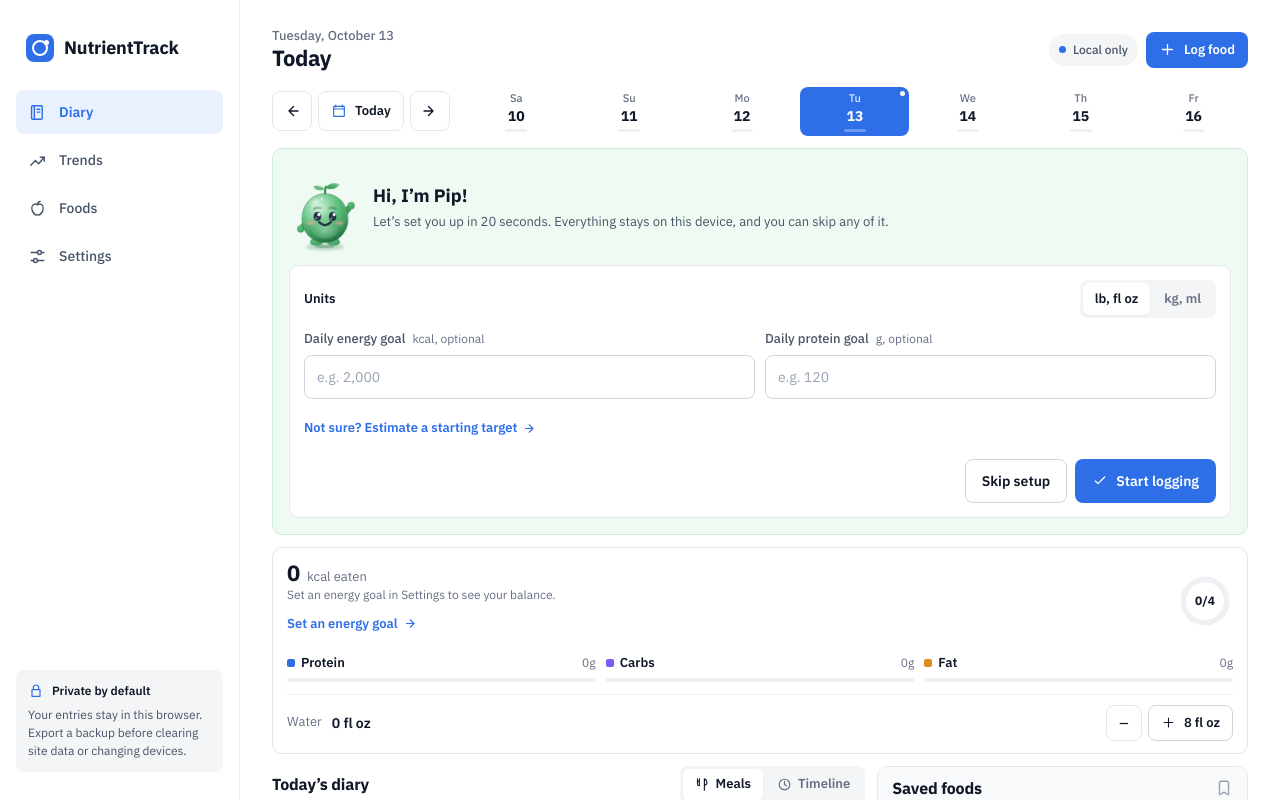
Scenario: write failures surface as error toasts › keeps the entry and closes the dialog when only the optional saveFood fails
Click the button "Log food": (1197, 50) [1146,32,1248,68]
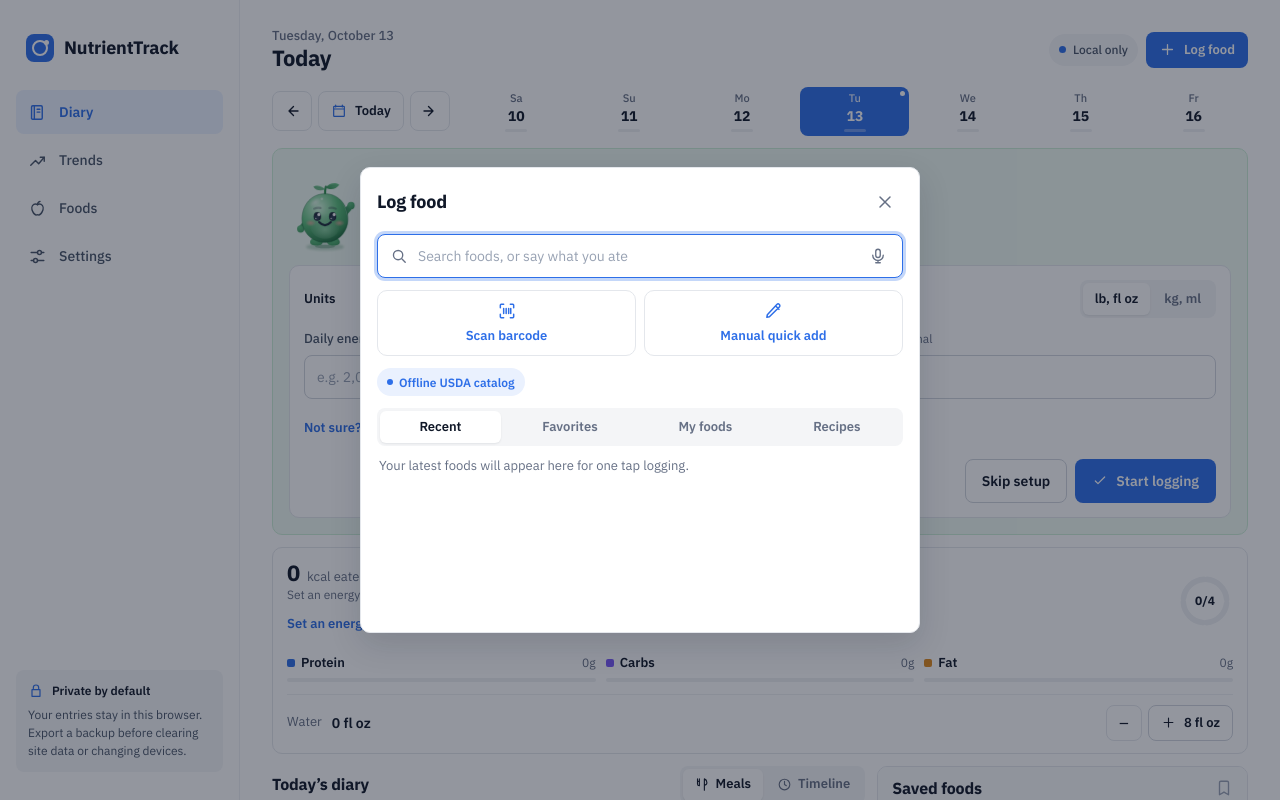
Click the button "Manual quick add": (774, 323) [644,290,903,356]
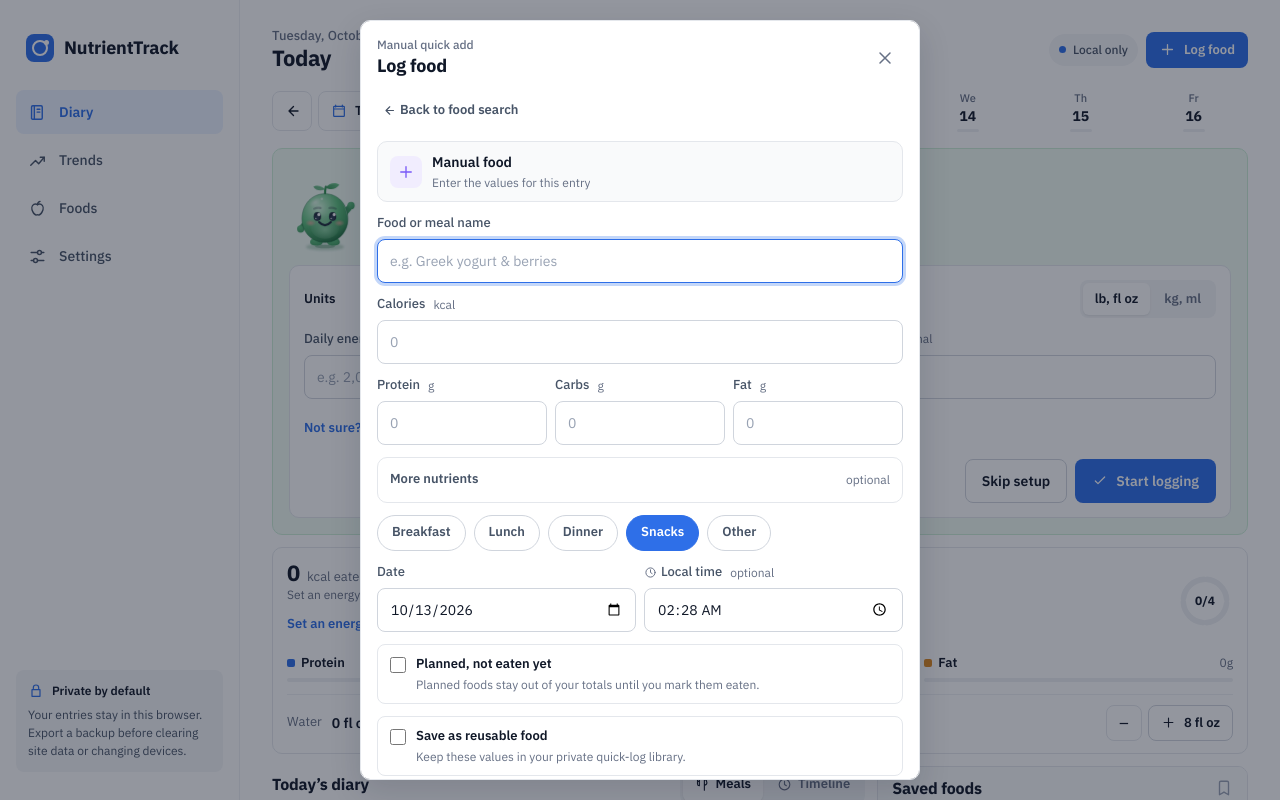
In the field labelled "Food or meal name": (640, 261) [377,239,903,283], type "Toast"
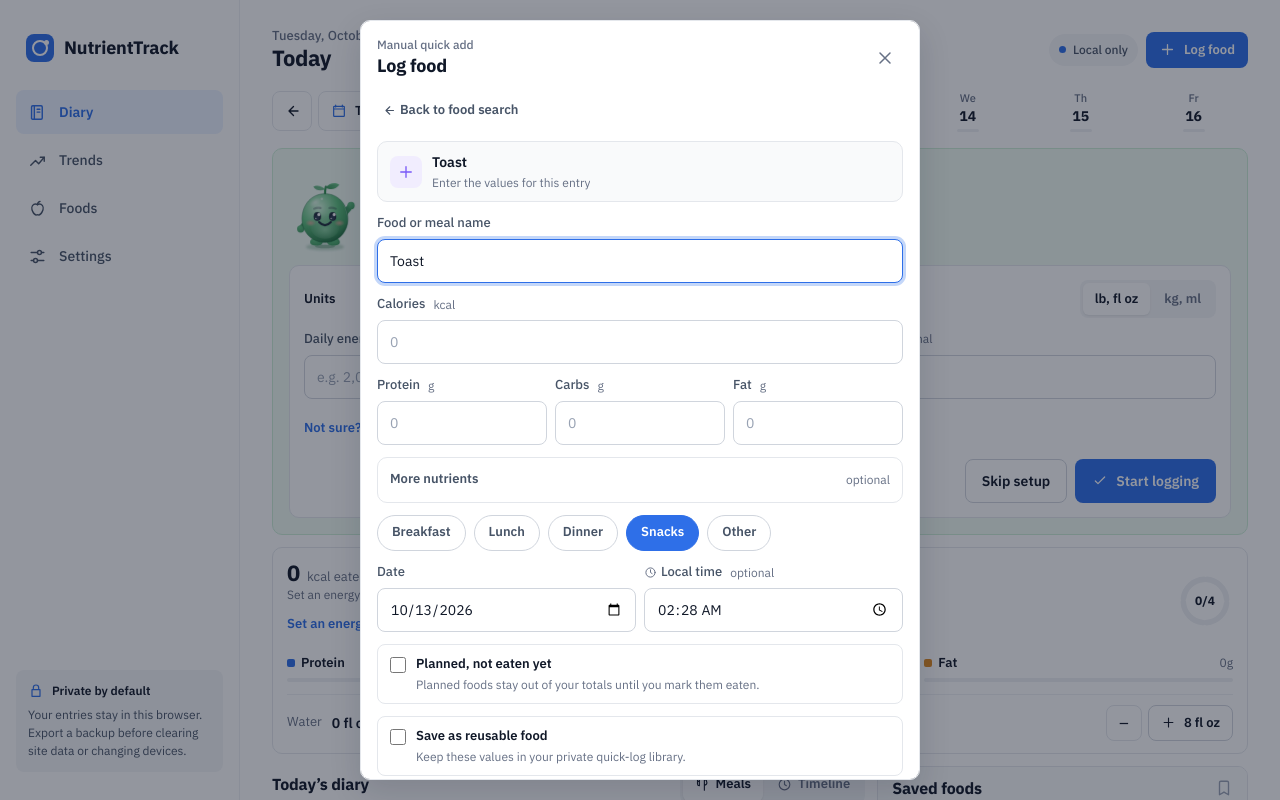
In the number field labelled "Calories kcal": (640, 342) [377,320,903,364], type "120"
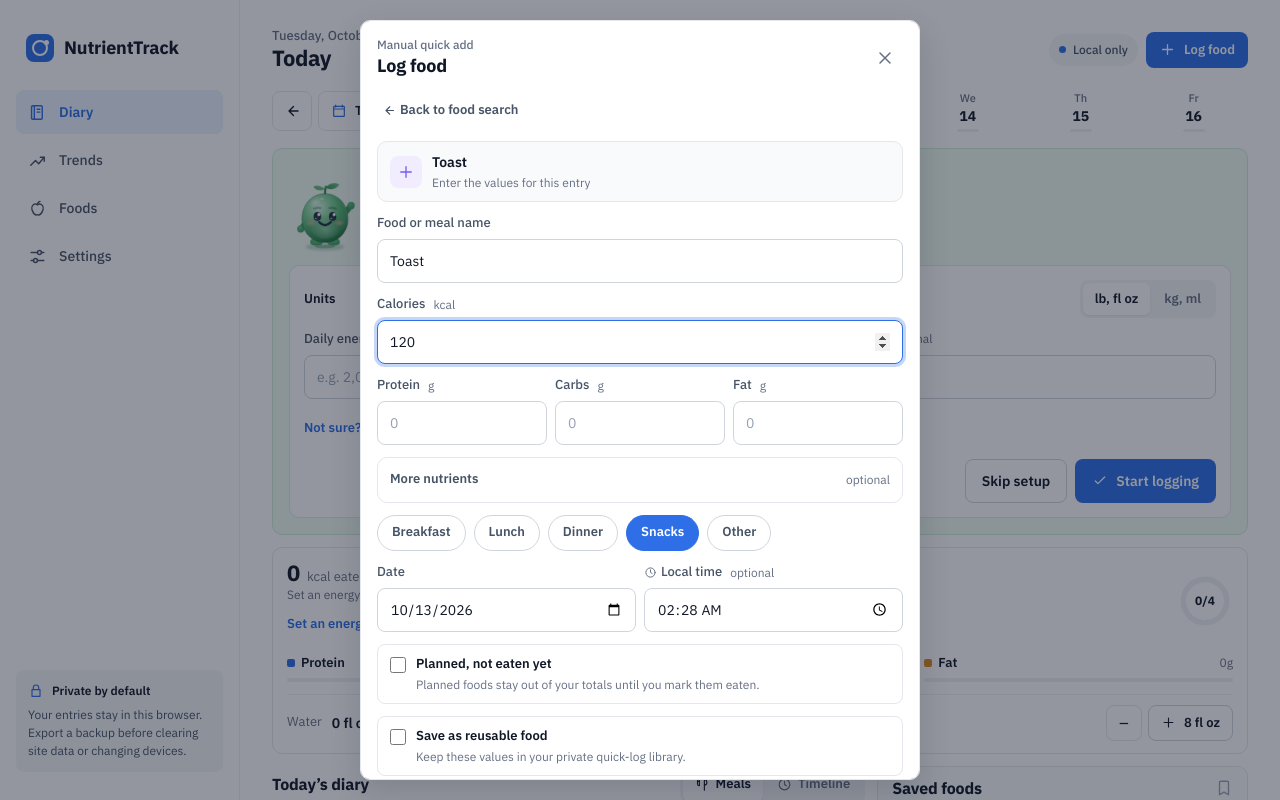
Click the checkbox labelled "Save as reusable food": (398, 737) [390,729,406,745]
(page scrolled)
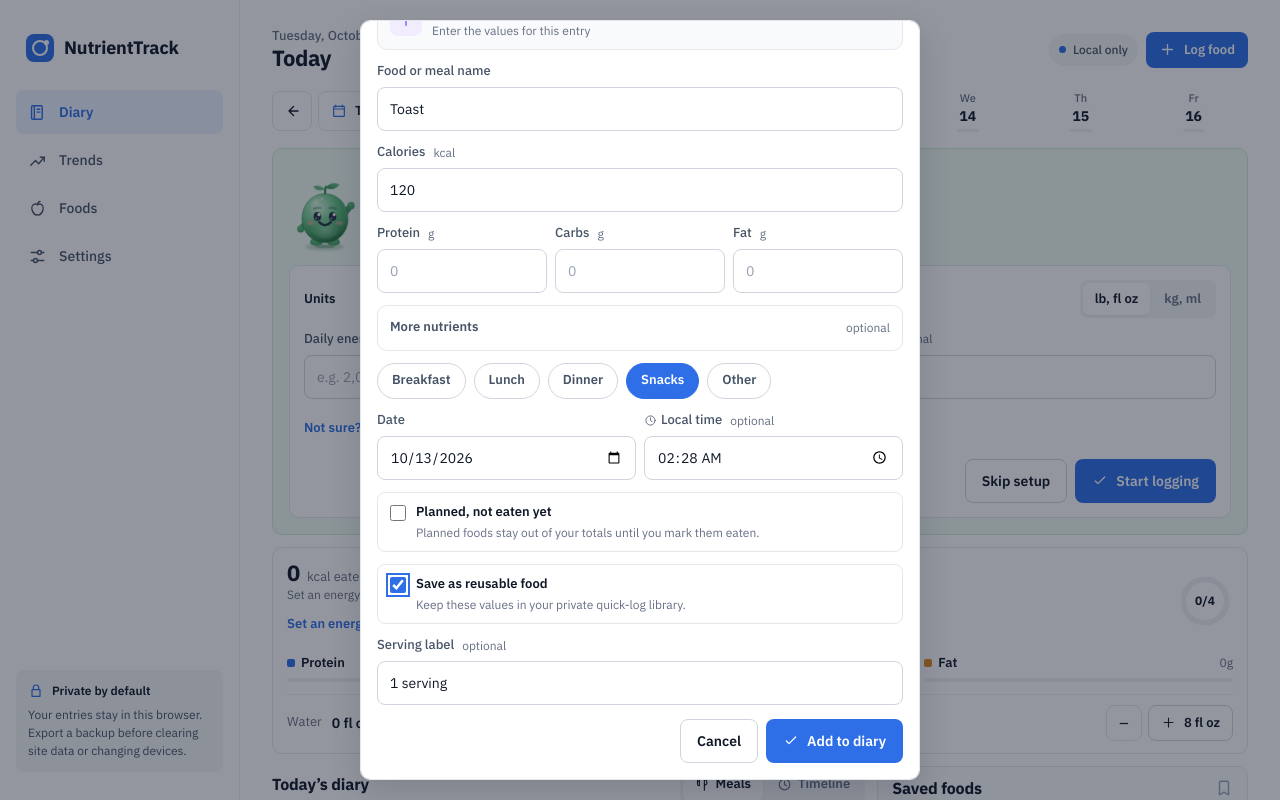
Click the button "Add to diary": (835, 741) [766,719,903,763]
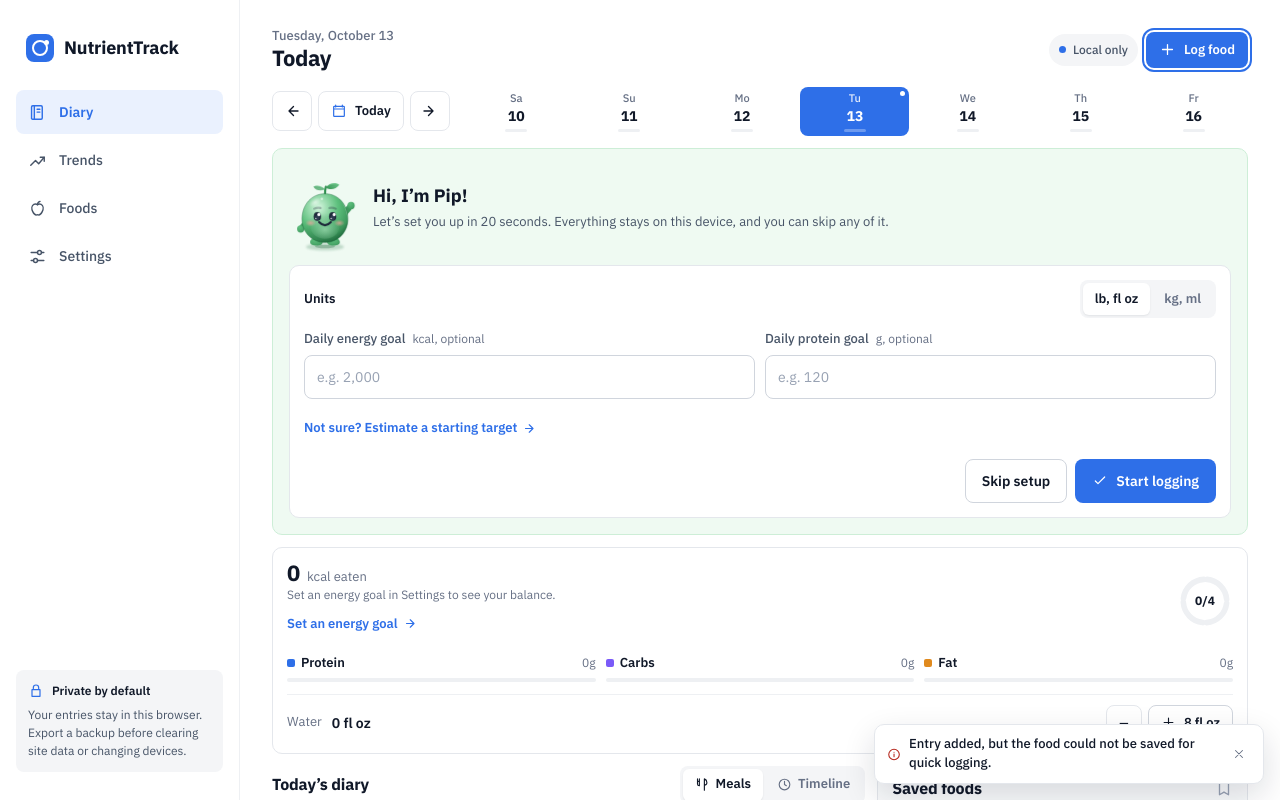
Expected: the text "Entry added, but the food could not be saved for quick logging." is shown, [909,735,1216,773]
Expected: the dialog is gone
